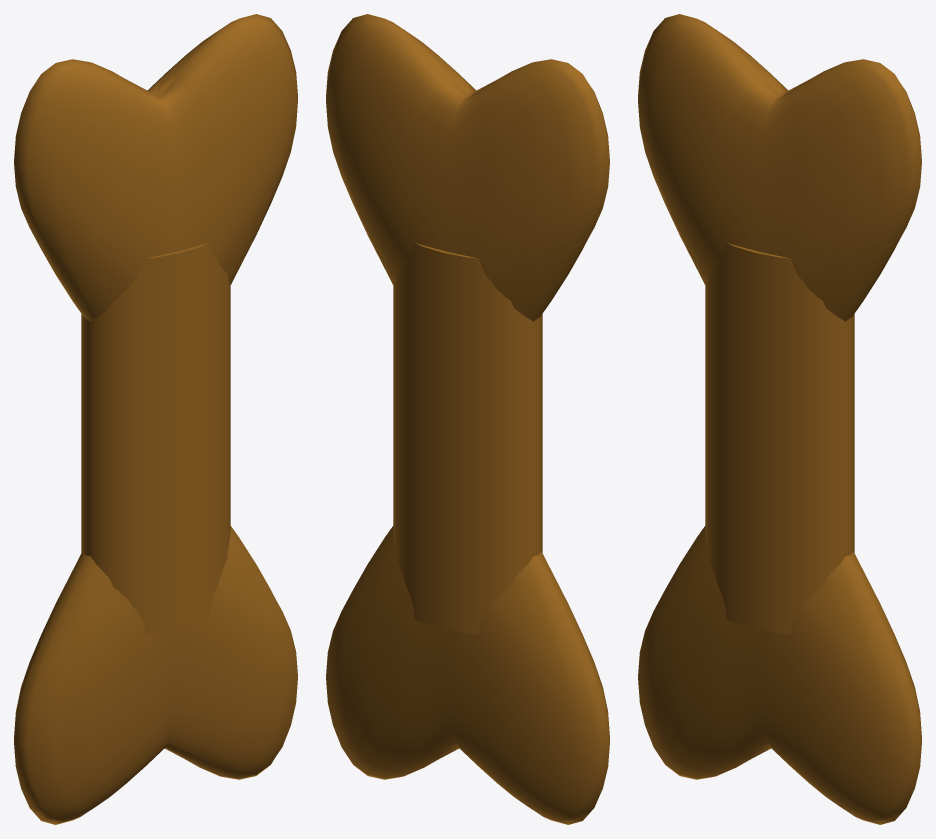
The model's file is mama1.fbx.
3 renders of one model, left to right at view 1: azimuth 30°, elevation 25°; view 2: azimuth 150°, elevation 25°; view 3: azimuth 330°, elevation 25°, orthographic.
Visible parts, largest first — view 1: group1_pasted__ffd1Lattice1; view 2: group1_pasted__ffd1Lattice1; view 3: group1_pasted__ffd1Lattice1.
Boxes of the visible parts, x1,y1,x2,y2 form: group1_pasted__ffd1Lattice1: (14,14,297,824); group1_pasted__ffd1Lattice1: (326,14,609,824); group1_pasted__ffd1Lattice1: (638,14,921,824).
Size of the model in its own units: 0.2 by 0.5131 by 0.0595.
